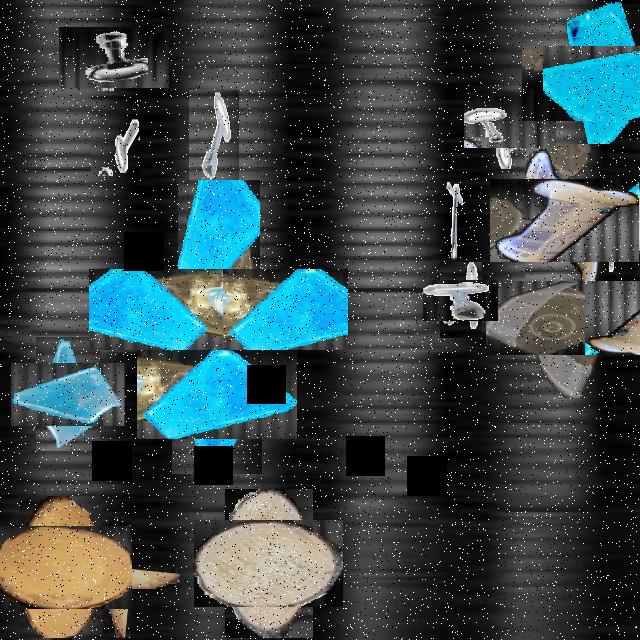glass: (154, 332, 280, 457), (543, 23, 640, 143), (23, 350, 112, 439)
metal: (71, 14, 157, 100), (474, 86, 546, 159), (433, 180, 487, 276), (189, 90, 239, 180), (91, 91, 139, 176), (585, 199, 640, 266), (432, 271, 490, 330)
plastic: (134, 224, 304, 395), (508, 161, 626, 280), (506, 260, 620, 376)
wood: (210, 504, 328, 623), (4, 511, 118, 624), (84, 542, 156, 614)
